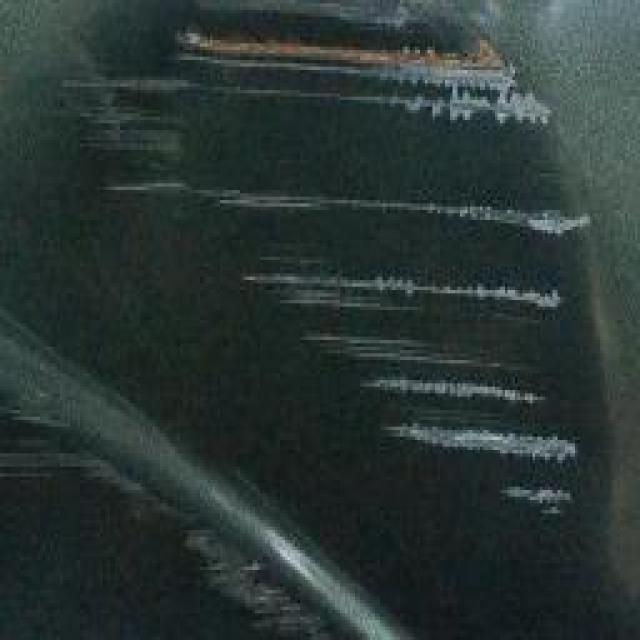Door: (45, 3, 625, 640)
